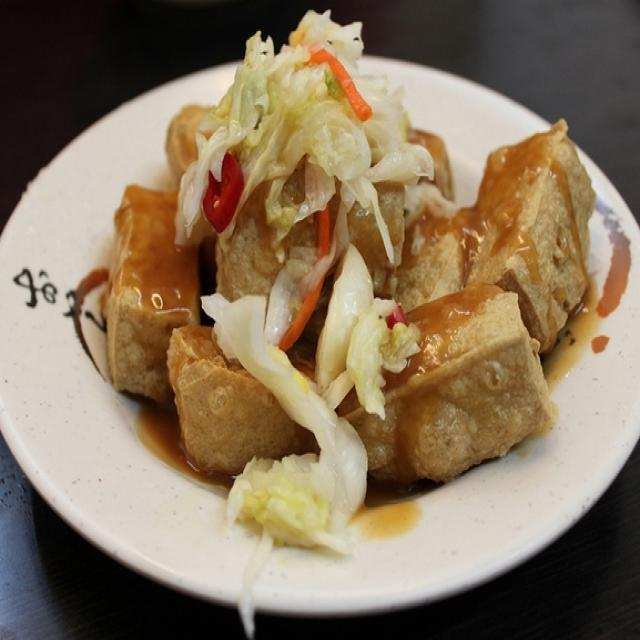豆腐料理: (31, 26, 633, 581)
